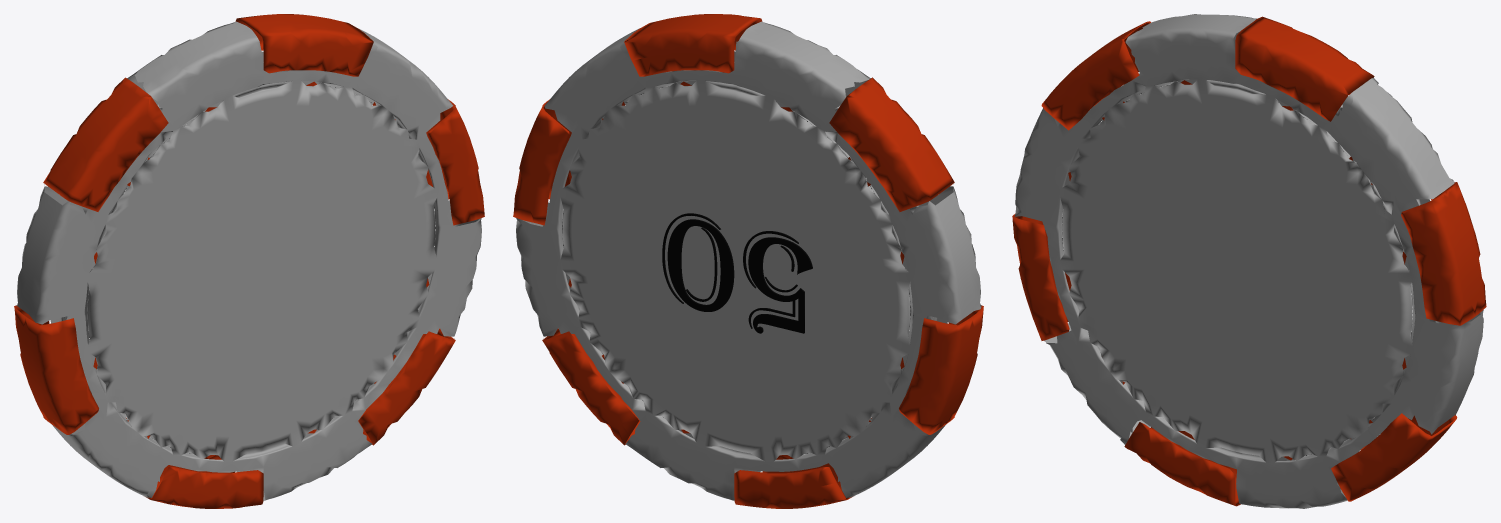
File: Chip-50.obj
3 renders of one model, left to right at view 1: azimuth 30°, elevation 25°; view 2: azimuth 150°, elevation 25°; view 3: azimuth 330°, elevation 25°, orthographic.
Parts seen in each view (by area): view 1: Chip-50; view 2: Chip-50; view 3: Chip-50.
Boxes of the visible parts, left/top/right/bottom form: Chip-50: left=14, top=14, right=484, bottom=508; Chip-50: left=513, top=14, right=983, bottom=508; Chip-50: left=1012, top=14, right=1486, bottom=508.
Size of the model in its own units: 0.9996 by 1 by 0.1098.
